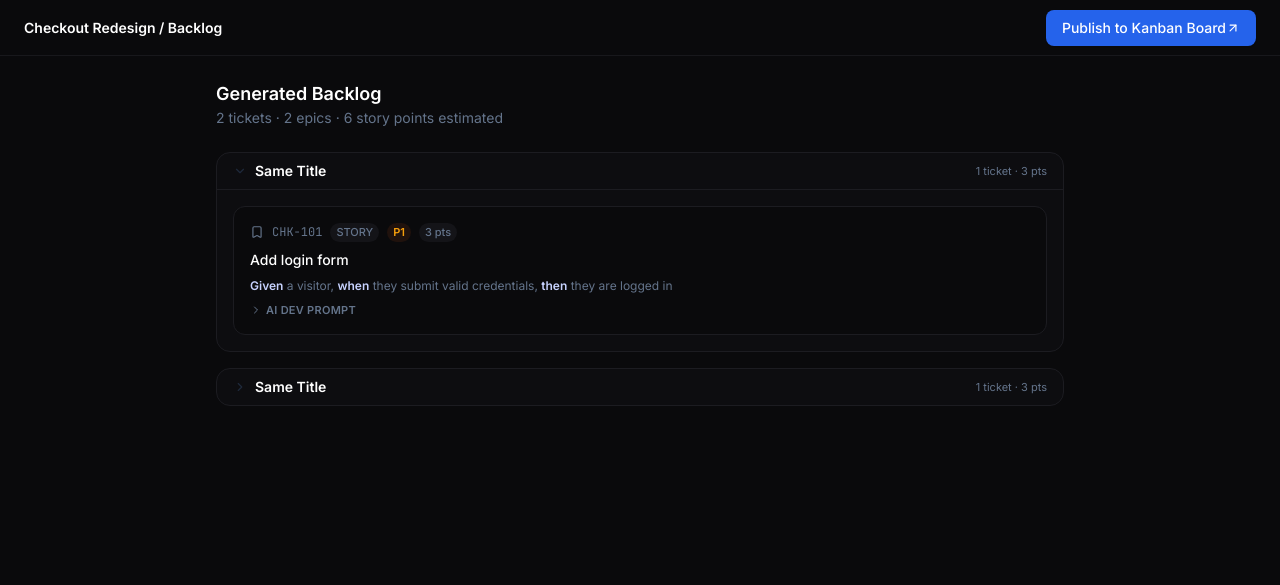
Scenario: BacklogReviewPage — review mode › renders both accordions independently even when two epics share a title
Expected: the number of elements with test id "backlog-ticket-card" is 1, [233,206,1047,335]
Click the 2nd button "Same Title 1 ticket · 3 pts" at (291, 386), box [217,369,1063,405]
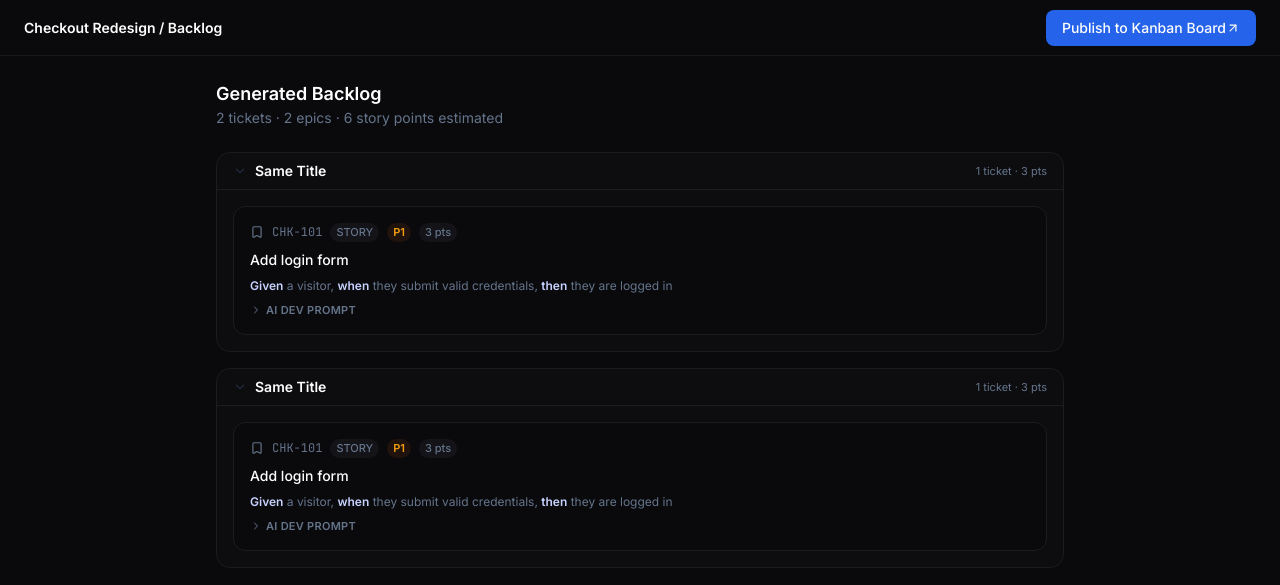
Result: the number of elements with test id "backlog-ticket-card" is 2 at [233,206,1047,335]; [233,422,1047,551]
